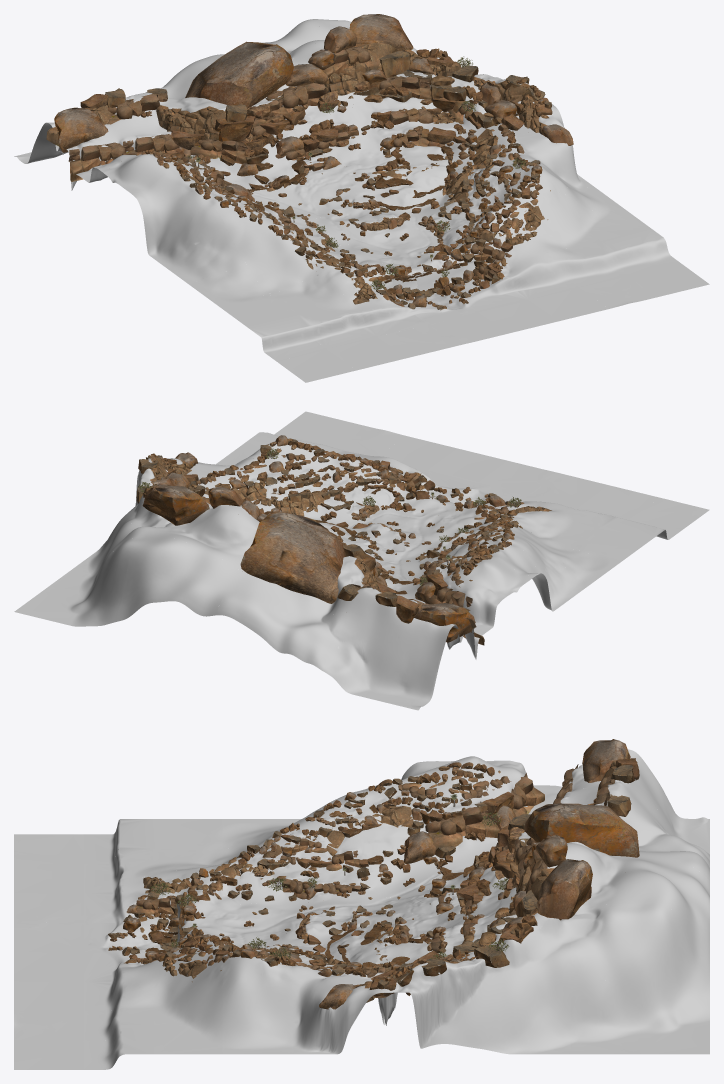
Rendered from Terreno.fbx.
The picture shows the model from 3 angles, top to bottom: view 1: azimuth 30°, elevation 25°; view 2: azimuth 150°, elevation 25°; view 3: azimuth 270°, elevation 25°; orthographic projection. The views are drawn at different scales.
Visible parts, largest first — view 1: Landscape1, Landscape3, Landscape8, Landscape4, Landscape11, Landscape6, Landscape7, Landscape9, Landscape5, Landscape2; view 2: Landscape1, Landscape3, Landscape4, Landscape11, Landscape8, Landscape6, Landscape7, Landscape9, Landscape5; view 3: Landscape1, Landscape3, Landscape4, Landscape8, Landscape6, Landscape11, Landscape7, Landscape9, Landscape5.
Part boxes in pixels (x1=…): Landscape1: x1=14, y1=19, x2=709, y2=382; Landscape3: x1=54, y1=14, x2=573, y2=307; Landscape8: x1=68, y1=46, x2=550, y2=302; Landscape4: x1=105, y1=51, x2=551, y2=310; Landscape11: x1=46, y1=42, x2=548, y2=304; Landscape6: x1=141, y1=48, x2=541, y2=304; Landscape7: x1=153, y1=79, x2=539, y2=308; Landscape9: x1=163, y1=75, x2=548, y2=306; Landscape5: x1=186, y1=56, x2=525, y2=289; Landscape2: x1=381, y1=261, x2=475, y2=290; Landscape1: x1=14, y1=411, x2=709, y2=710; Landscape3: x1=142, y1=435, x2=518, y2=642; Landscape4: x1=136, y1=439, x2=521, y2=606; Landscape11: x1=150, y1=451, x2=551, y2=627; Landscape8: x1=197, y1=442, x2=518, y2=645; Landscape6: x1=144, y1=442, x2=514, y2=585; Landscape7: x1=150, y1=441, x2=510, y2=581; Landscape9: x1=155, y1=438, x2=524, y2=567; Landscape5: x1=138, y1=448, x2=521, y2=585; Landscape1: x1=14, y1=749, x2=709, y2=1069; Landscape3: x1=123, y1=739, x2=639, y2=1009; Landscape4: x1=108, y1=765, x2=634, y2=989; Landscape8: x1=136, y1=764, x2=614, y2=995; Landscape6: x1=108, y1=763, x2=596, y2=978; Landscape11: x1=143, y1=760, x2=616, y2=1002; Landscape7: x1=110, y1=762, x2=528, y2=978; Landscape9: x1=119, y1=766, x2=518, y2=988; Landscape5: x1=149, y1=812, x2=509, y2=959.
Bounding box in the file's own units: 13004 × 4068 × 15750.
